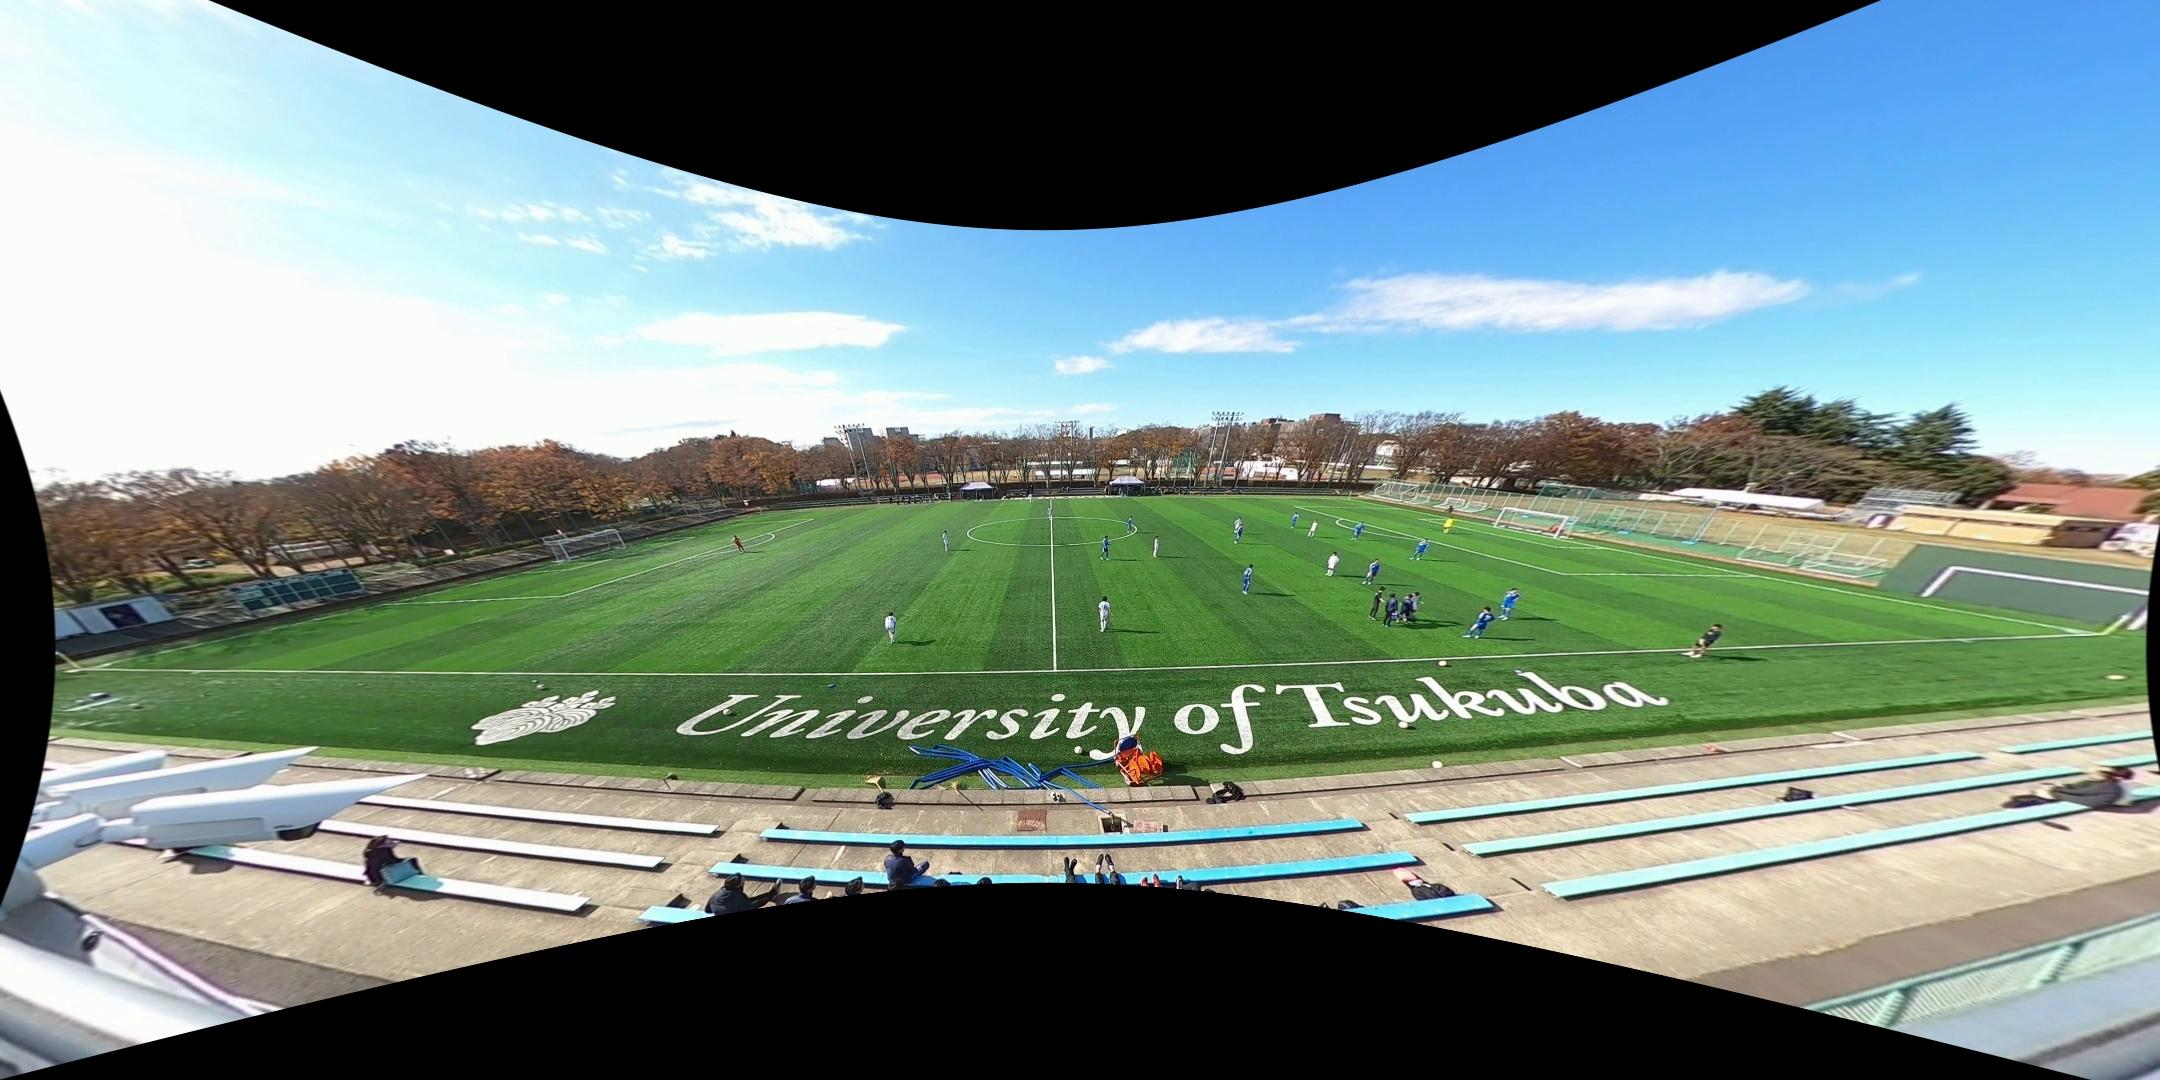person: (1684, 621, 1724, 661), (1464, 607, 1495, 639), (1499, 587, 1522, 620), (1368, 586, 1387, 620), (1403, 591, 1424, 621), (1096, 596, 1113, 632), (1382, 593, 1398, 626), (1363, 559, 1380, 585), (1409, 539, 1429, 560), (1324, 552, 1340, 576), (1397, 596, 1413, 620), (1241, 564, 1253, 594), (885, 610, 896, 642), (1100, 535, 1111, 561), (1351, 522, 1365, 541), (731, 534, 744, 551), (941, 532, 951, 552), (1234, 523, 1244, 543), (1307, 519, 1317, 538), (1444, 516, 1454, 534), (1232, 517, 1242, 534), (1290, 512, 1299, 530), (1152, 536, 1159, 557), (1127, 516, 1134, 534), (1047, 506, 1053, 520), (1028, 492, 1032, 504)
sports ball: (1074, 744, 1085, 756), (1431, 759, 1444, 769), (1438, 659, 1449, 667), (1399, 721, 1409, 729)
